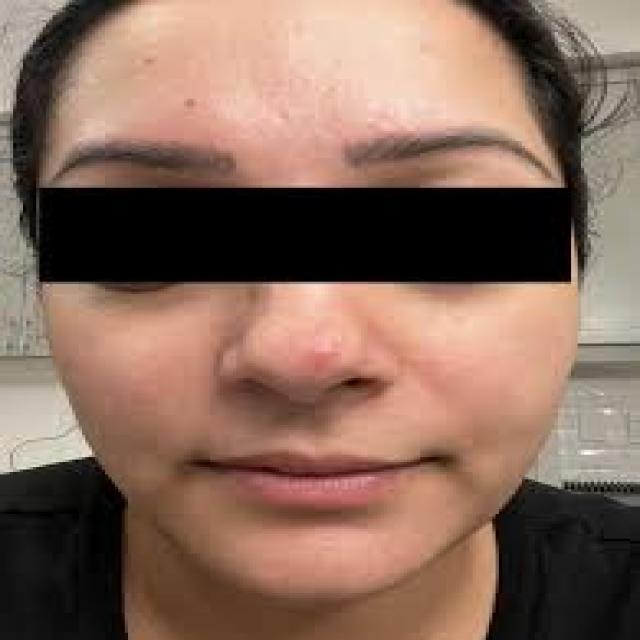Rosacea: (62, 344, 195, 448), (401, 331, 516, 408), (268, 325, 343, 370)
